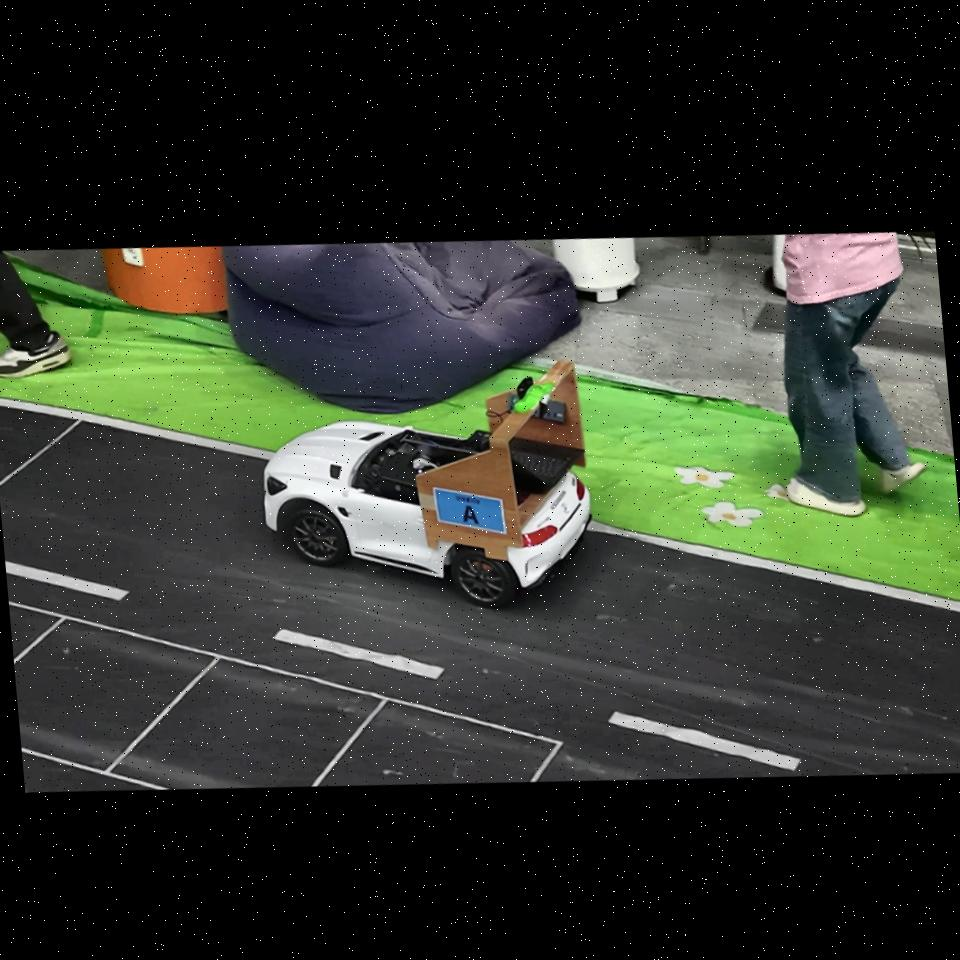broken_line: (608, 711, 801, 770), (273, 629, 445, 679), (5, 561, 129, 601)
